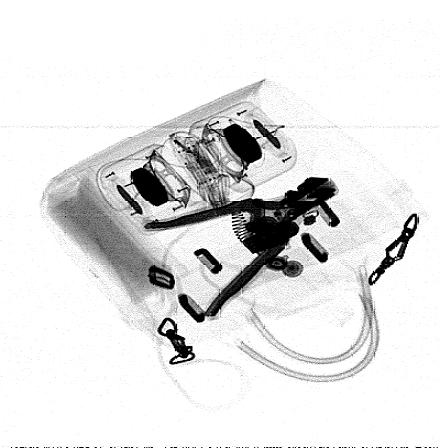Pliers: (141, 176, 340, 318)
